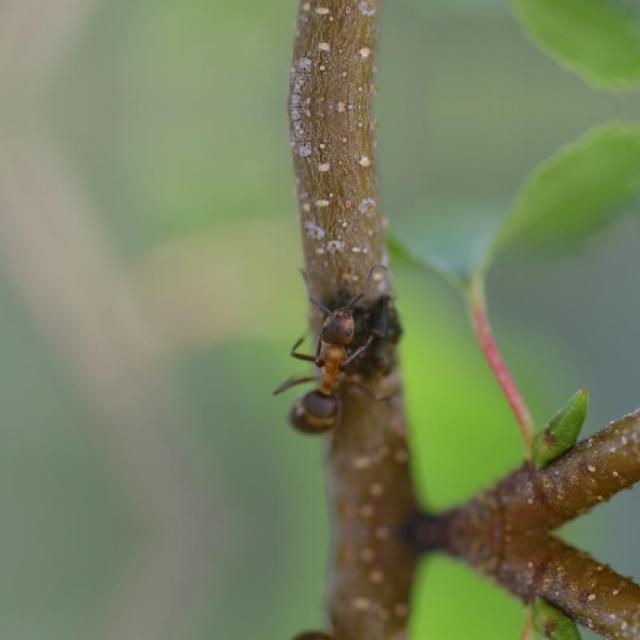Formica: (262, 279, 394, 453)
